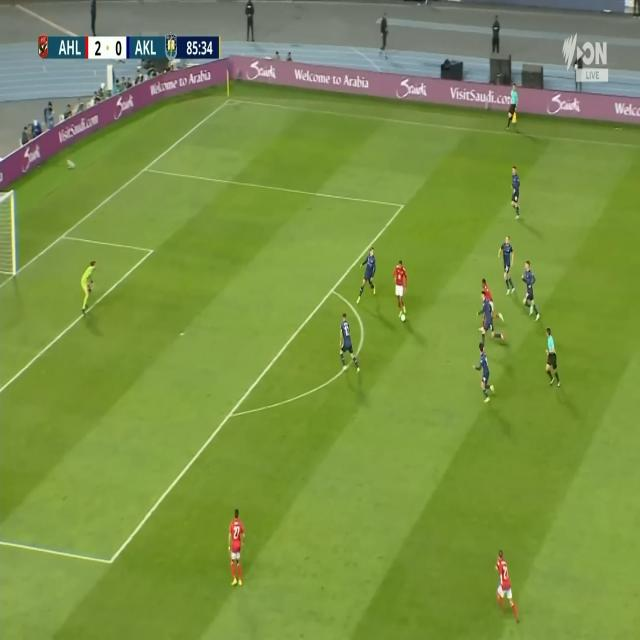Ball: (400, 310, 406, 322)
Keeper: (79, 259, 101, 316)
Player: (494, 549, 521, 627), (477, 292, 505, 349), (338, 313, 362, 376), (478, 277, 504, 331), (473, 344, 496, 403), (229, 507, 245, 590), (522, 262, 542, 322), (498, 234, 516, 294), (357, 249, 376, 303), (392, 259, 408, 323), (510, 166, 521, 219)
Ref: (544, 326, 562, 386), (506, 85, 519, 127)
